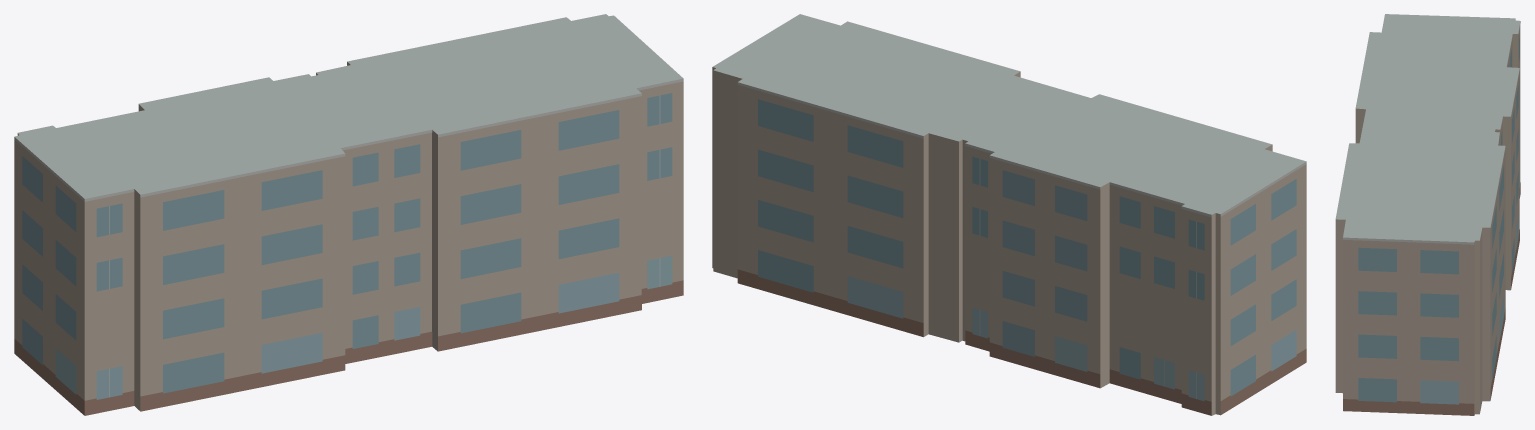
File: survey-upis-32837640.glb
3 views of the same model, side by side, from view 1: azimuth 30°, elevation 25°; view 2: azimuth 150°, elevation 25°; view 3: azimuth 270°, elevation 25° (orthographic). The views are drawn at different scales.
Parts seen in each view (by area): view 1: survey-upis-32837640.tmp; view 2: survey-upis-32837640.tmp; view 3: survey-upis-32837640.tmp.
Part boxes in pixels (<box>): survey-upis-32837640.tmp: <box>14,14,683,415</box>; survey-upis-32837640.tmp: <box>712,14,1306,415</box>; survey-upis-32837640.tmp: <box>1335,14,1520,415</box>.
Bounding box in the file's own units: 53.93 × 19.1 × 18.46.
